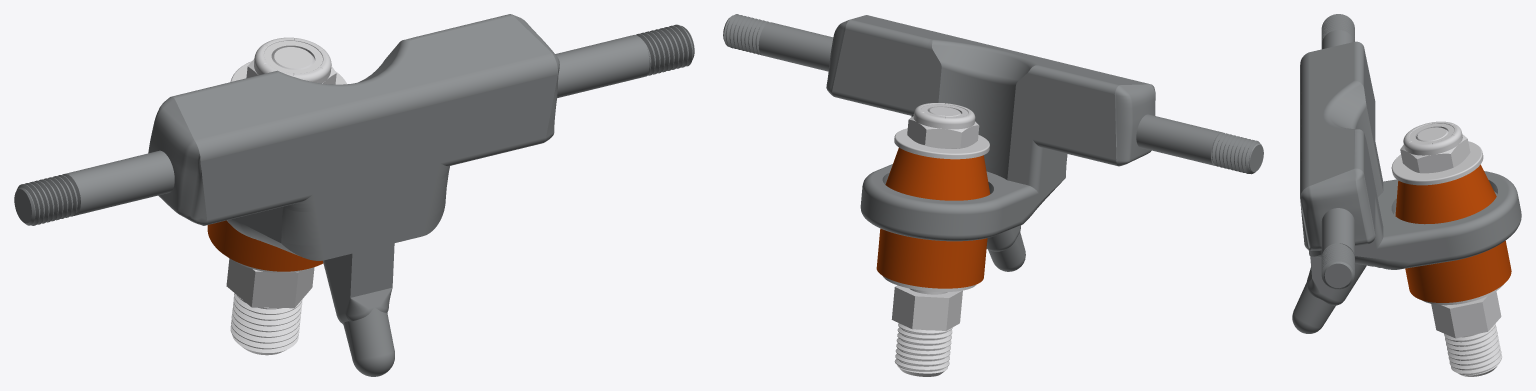
The model's file is Truck-kingpin-bujes.glb.
The picture shows the model from 3 angles, left to right: view 1: azimuth 30°, elevation 25°; view 2: azimuth 150°, elevation 25°; view 3: azimuth 270°, elevation 25°; orthographic projection. The views are drawn at different scales.
Visible parts, largest first — view 1: object 7, 93712A700_Partially Threaded Stud with Cotter Pin, 98833A250_Low-Strength Steel Threaded Rod (×2), object 10, 97231A470_Mil. Spec. Thin Nylon-Insert Locknut (×2); view 2: object 7, 93712A700_Partially Threaded Stud with Cotter Pin, object 10, object 6, 98833A250_Low-Strength Steel Threaded Rod (×2), 97231A470_Mil. Spec. Thin Nylon-Insert Locknut, Imported1; view 3: object 7, 93712A700_Partially Threaded Stud with Cotter Pin, object 10, object 6, 97231A470_Mil. Spec. Thin Nylon-Insert Locknut (×2), 98833A250_Low-Strength Steel Threaded Rod (×2), Imported1 (×2).
Part boxes in pixels (bbox=[...]): object 7: bbox=[66, 14, 649, 376]; 93712A700_Partially Threaded Stud with Cotter Pin: bbox=[226, 47, 314, 355]; 98833A250_Low-Strength Steel Threaded Rod (×2): bbox=[14, 24, 694, 225]; object 10: bbox=[207, 220, 323, 271]; 97231A470_Mil. Spec. Thin Nylon-Insert Locknut (×2): bbox=[246, 37, 336, 84]; object 7: bbox=[758, 15, 1222, 271]; 93712A700_Partially Threaded Stud with Cotter Pin: bbox=[891, 107, 962, 376]; object 10: bbox=[876, 228, 987, 288]; object 6: bbox=[885, 147, 990, 200]; 98833A250_Low-Strength Steel Threaded Rod (×2): bbox=[723, 14, 1263, 174]; 97231A470_Mil. Spec. Thin Nylon-Insert Locknut: bbox=[907, 103, 979, 148]; Imported1: bbox=[894, 128, 989, 159]; object 7: bbox=[1292, 30, 1521, 333]; 93712A700_Partially Threaded Stud with Cotter Pin: bbox=[1416, 127, 1501, 376]; object 10: bbox=[1405, 240, 1511, 302]; object 6: bbox=[1395, 164, 1496, 224]; 97231A470_Mil. Spec. Thin Nylon-Insert Locknut (×2): bbox=[1400, 121, 1470, 173]; 98833A250_Low-Strength Steel Threaded Rod (×2): bbox=[1321, 14, 1354, 289]; Imported1 (×2): bbox=[1391, 141, 1502, 305].
Size of the model in its own units: 0.1412 by 0.0706 by 0.0551.
